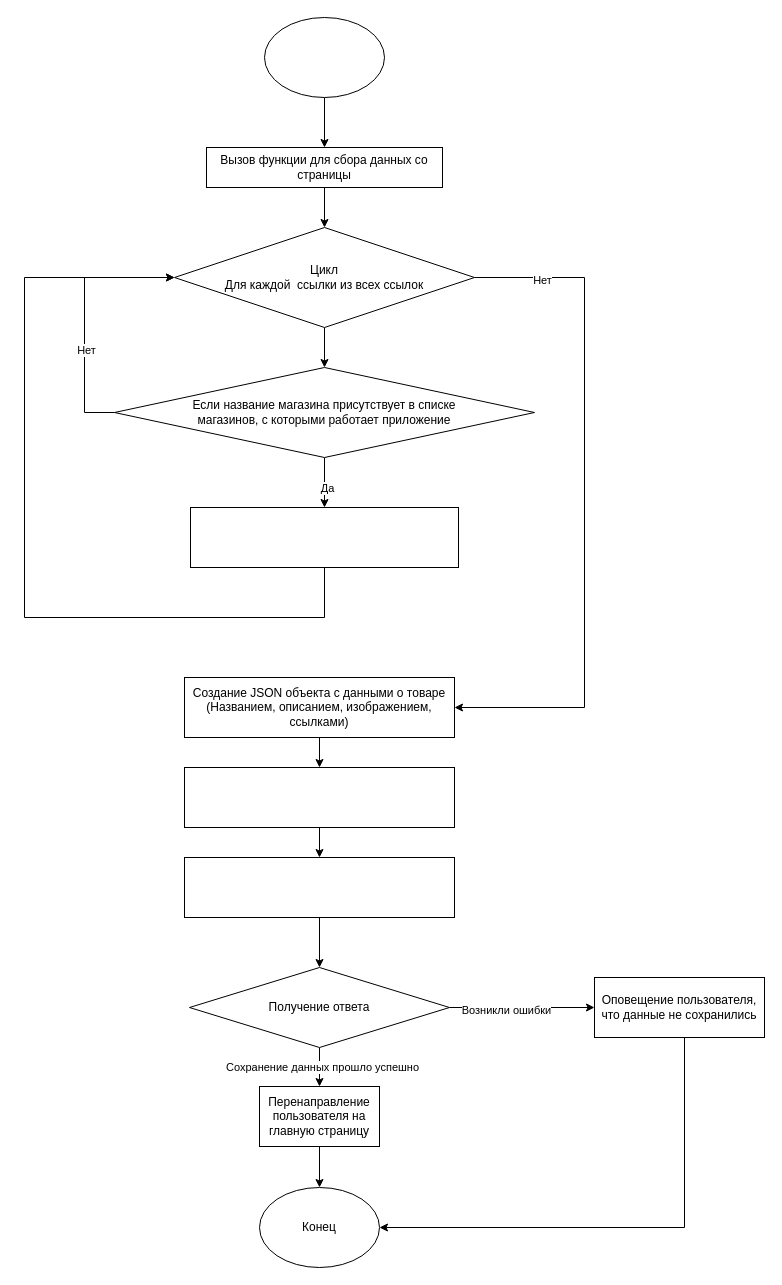
Image size: 782x1285. Some labels were removed from this diagram. Each missing label, with the centre of its shape:
Добавление данных о товаре в массив: the point at 324,537
Начало функции сохранения/изменения товара: the point at 324,57
Отправка данных на сервер: the point at 319,887
Создание объекта, который пригоден для отправки на сервер: the point at 319,797
